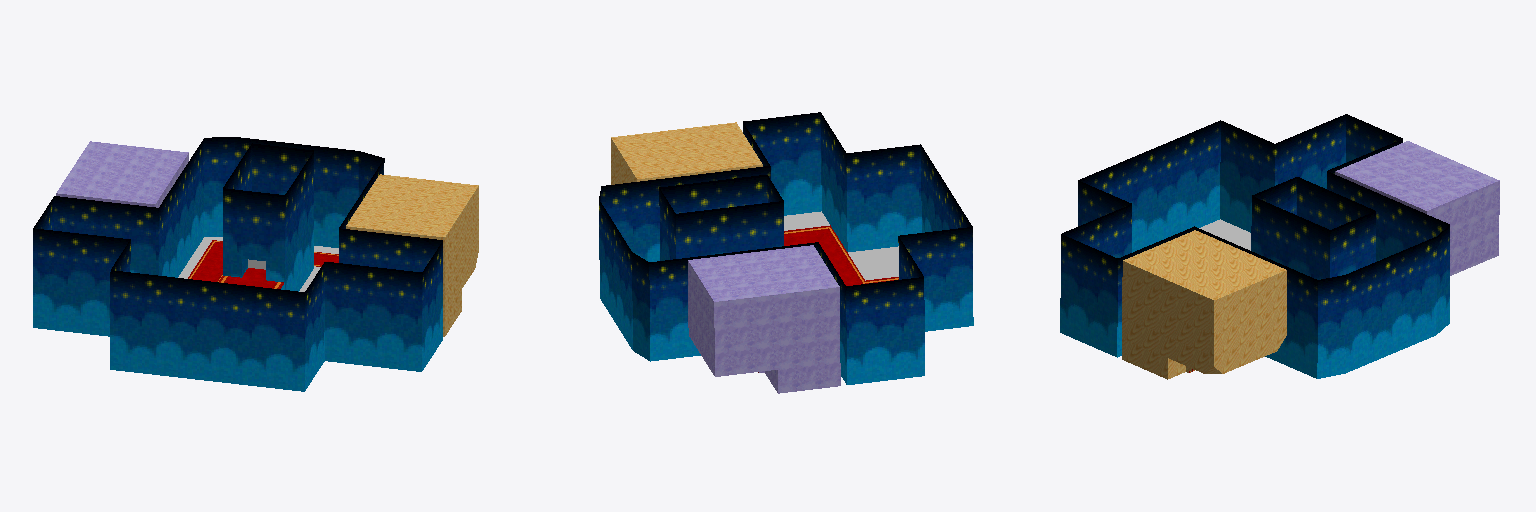
The picture shows the model from 3 angles: view 1: azimuth 30°, elevation 25°; view 2: azimuth 150°, elevation 25°; view 3: azimuth 270°, elevation 25°; orthographic projection.
Parts seen in each view (by area): view 1: 012_2FFC08F5_c.bmp, 013_66E6C696_c.bmp, 015_3342EBC1_c.bmp, 014_46B89AC1_c.bmp, 010_3AE92A9C_c.bmp; view 2: 012_2FFC08F5_c.bmp, 015_3342EBC1_c.bmp, 013_66E6C696_c.bmp, 010_3AE92A9C_c.bmp, 014_46B89AC1_c.bmp; view 3: 012_2FFC08F5_c.bmp, 013_66E6C696_c.bmp, 015_3342EBC1_c.bmp, 010_3AE92A9C_c.bmp.
Part boxes in pixels (left/top/right/bottom): 012_2FFC08F5_c.bmp: left=33, top=137, right=442, bottom=391; 013_66E6C696_c.bmp: left=346, top=174, right=478, bottom=336; 015_3342EBC1_c.bmp: left=56, top=141, right=188, bottom=207; 014_46B89AC1_c.bmp: left=188, top=240, right=338, bottom=288; 010_3AE92A9C_c.bmp: left=178, top=237, right=338, bottom=291; 012_2FFC08F5_c.bmp: left=599, top=112, right=973, bottom=384; 015_3342EBC1_c.bmp: left=688, top=245, right=840, bottom=393; 013_66E6C696_c.bmp: left=611, top=122, right=762, bottom=184; 010_3AE92A9C_c.bmp: left=784, top=211, right=898, bottom=280; 014_46B89AC1_c.bmp: left=758, top=225, right=898, bottom=372; 012_2FFC08F5_c.bmp: left=1060, top=114, right=1449, bottom=378; 013_66E6C696_c.bmp: left=1122, top=230, right=1286, bottom=379; 015_3342EBC1_c.bmp: left=1335, top=141, right=1499, bottom=275; 010_3AE92A9C_c.bmp: left=1199, top=219, right=1250, bottom=250.
Bounding box in the file's own units: 5.2 × 1.77 × 5.21.
8 materials, 5 textured.